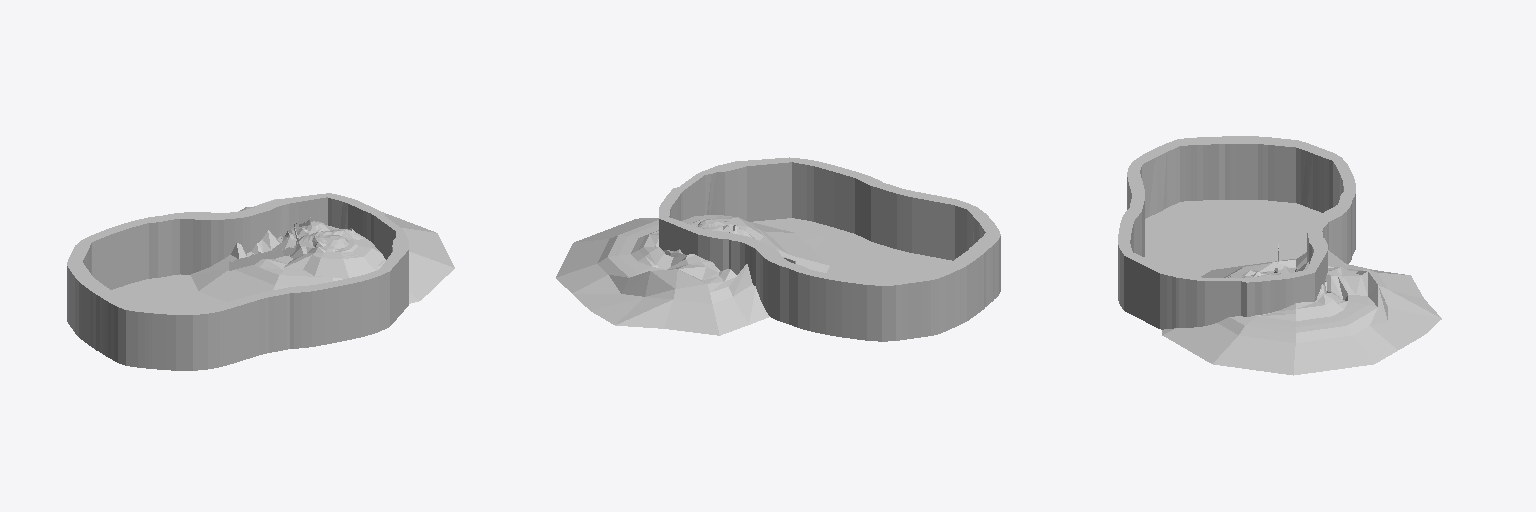
Rendered from Terrain.obj.
3 renders of one model, left to right at view 1: azimuth 30°, elevation 25°; view 2: azimuth 150°, elevation 25°; view 3: azimuth 270°, elevation 25°, orthographic.
Parts seen in each view (by area): view 1: MOUNTAIN_TERRAIN1; view 2: MOUNTAIN_TERRAIN1; view 3: MOUNTAIN_TERRAIN1.
Boxes of the visible parts, box(x1,y1,x2,y2) form: MOUNTAIN_TERRAIN1: box(67, 193, 454, 370); MOUNTAIN_TERRAIN1: box(556, 157, 1000, 341); MOUNTAIN_TERRAIN1: box(1118, 136, 1441, 375).
Size of the model in its own units: 11199 by 1586 by 8363.